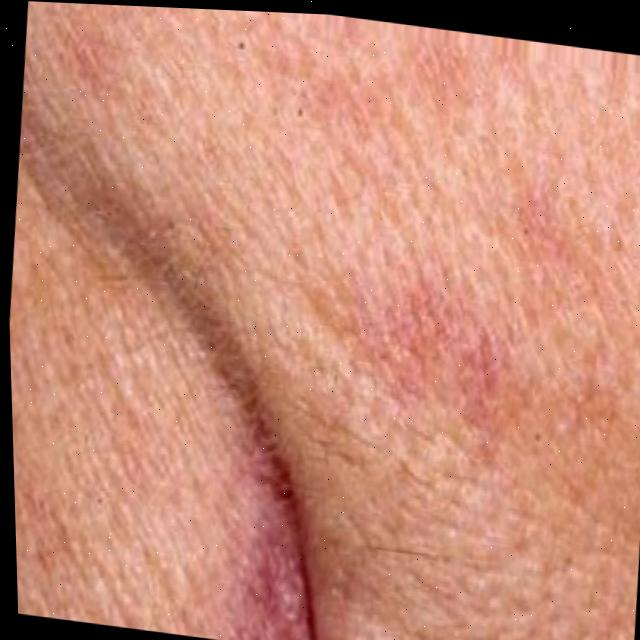Rosacea: (340, 279, 511, 415)
